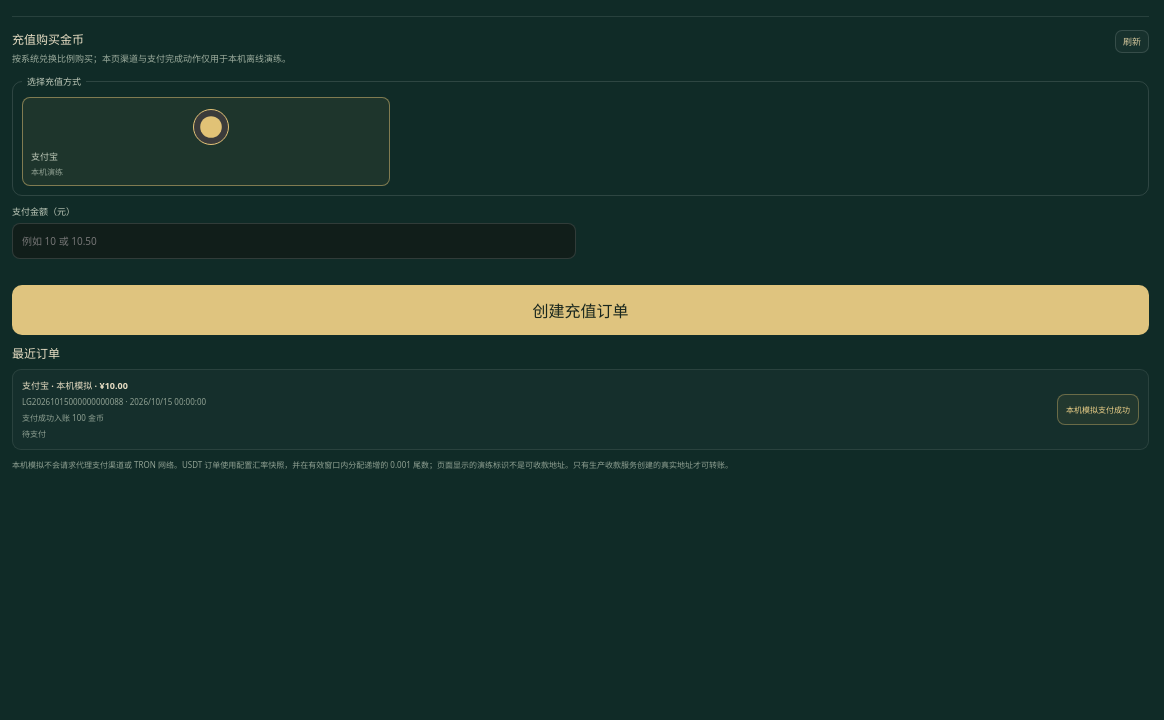
Test: player wallet funding workspace › creates a recharge order, offers a local mock payment, and refreshes wallet after payment
Type "10" into the field with placeholder "例如 10 或 10.50" at (294, 240), box top-left (12, 222), bottom-right (576, 258)
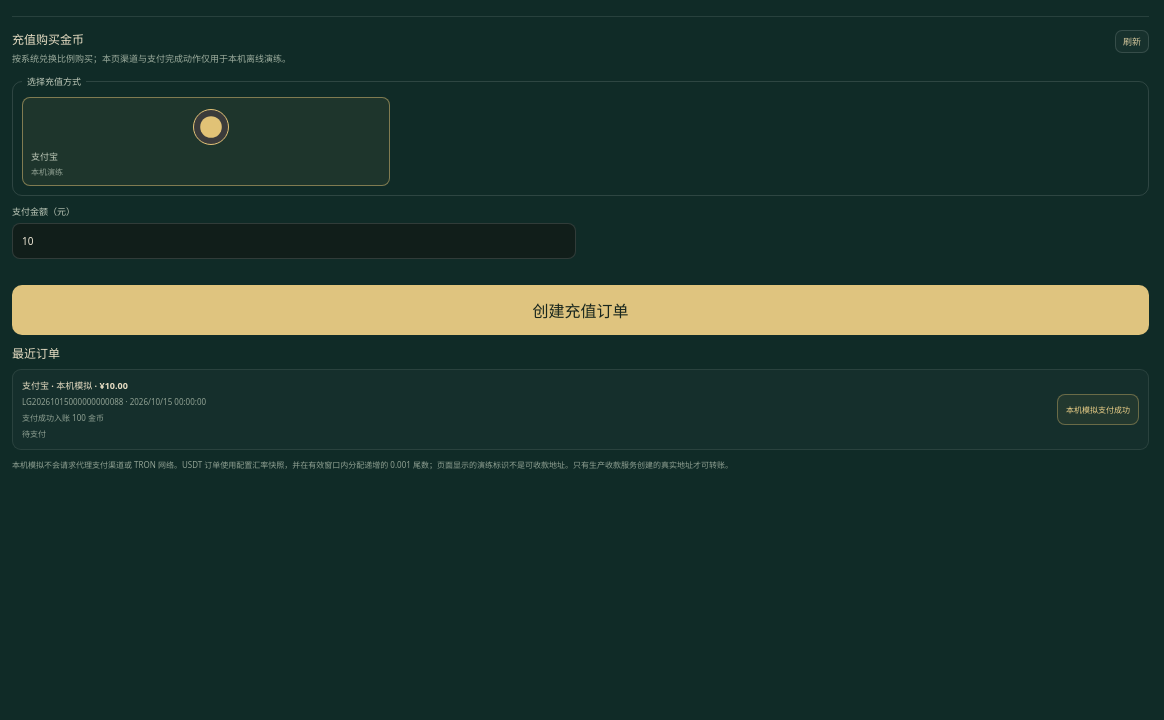
Click the submit button at (580, 310), box top-left (12, 284), bottom-right (1149, 334)
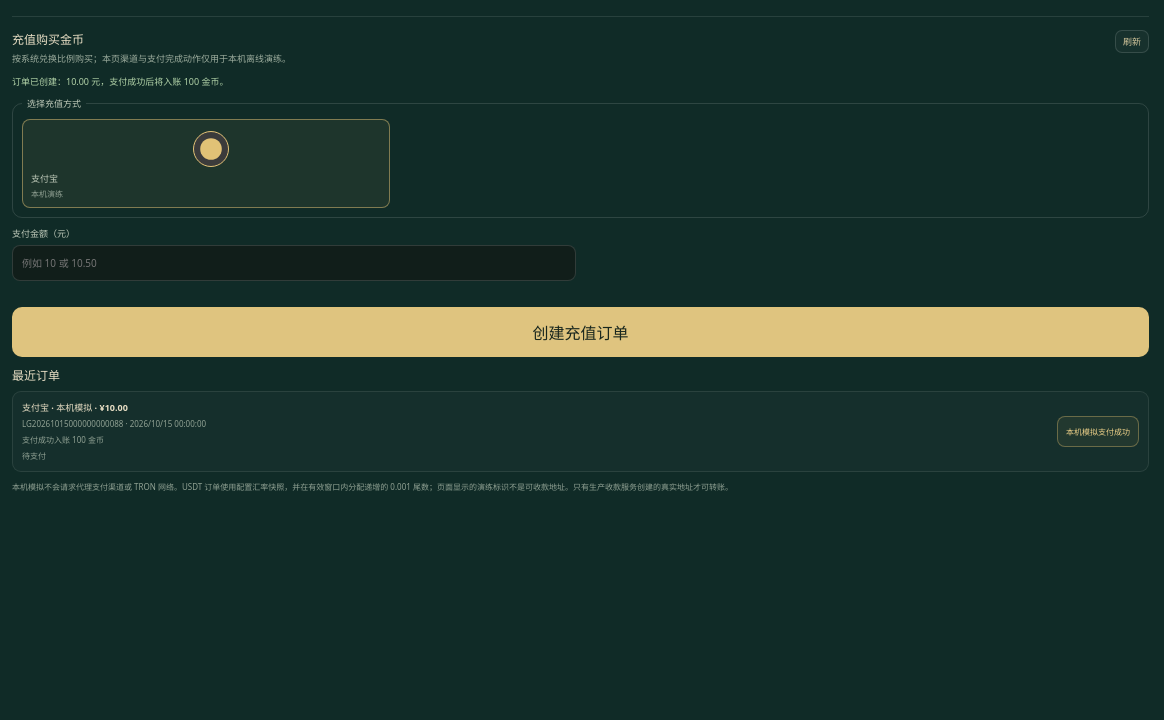
Check: the text "支付成功后将入账 100 金币" is shown, box top-left (12, 74), bottom-right (228, 88)
Click the button "本机模拟支付成功" at (1098, 432), box top-left (1057, 416), bottom-right (1139, 447)
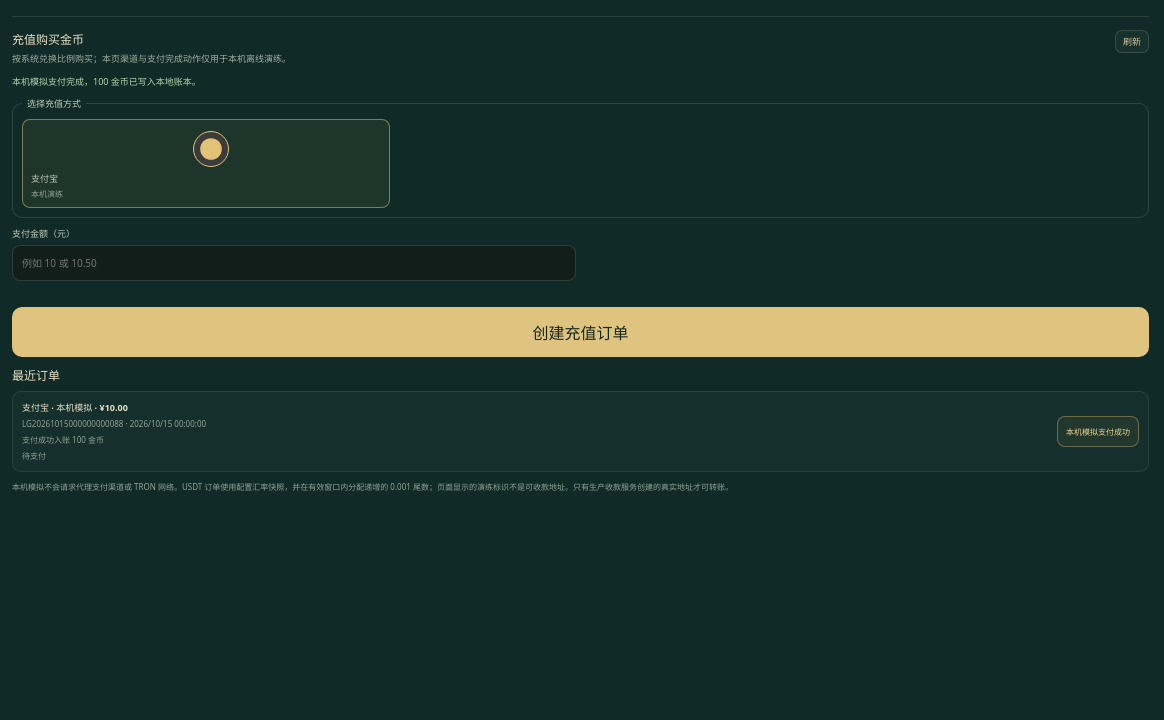
Check: the message "本机模拟支付完成，100 金币已写入本地账本。" is shown, box top-left (12, 74), bottom-right (201, 88)
